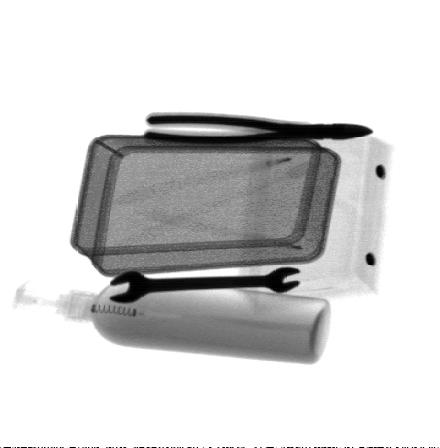Pliers: (142, 110, 375, 146)
Wrench: (109, 265, 304, 303)
